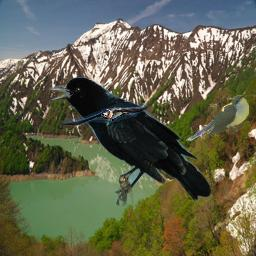Crow: (49, 77, 211, 206)
Cuckoo: (185, 95, 249, 141)
Swallow: (62, 103, 149, 125)
